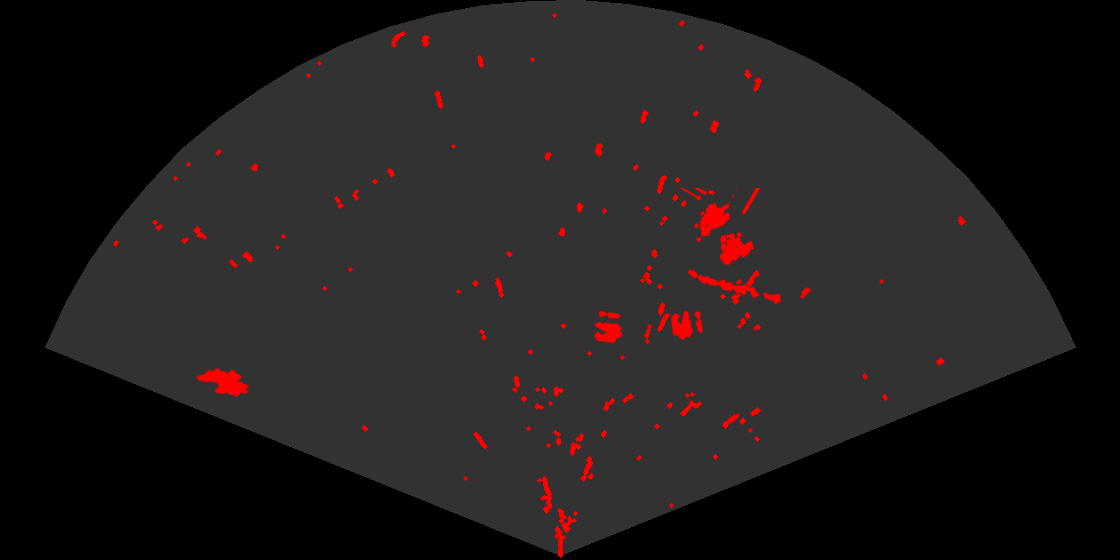AUV: (195, 367, 251, 399)
ball: (592, 309, 624, 345), (669, 309, 704, 341)
cage: (679, 188, 762, 267)
chain: (686, 268, 783, 306)
